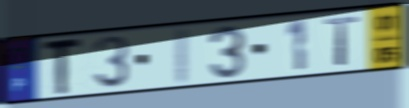1: (286, 17, 310, 72)
3: (207, 24, 246, 81), (92, 35, 131, 91)
I: (172, 25, 191, 88)
T: (41, 35, 85, 97), (323, 14, 362, 68)
